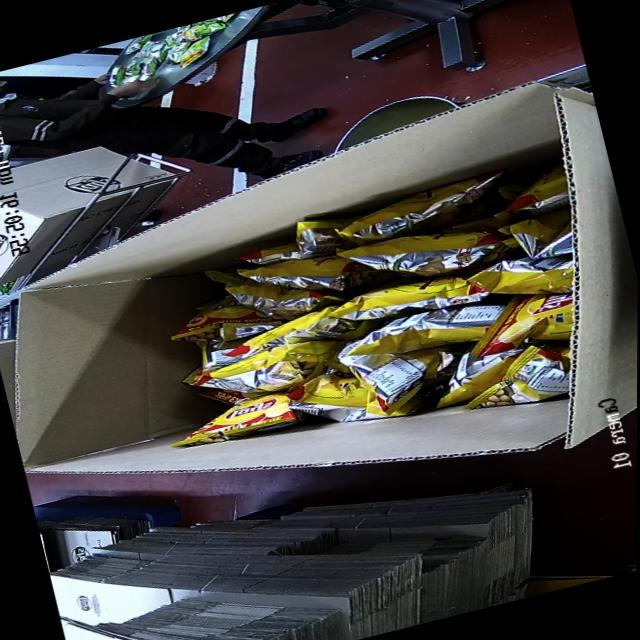SALTED: (142, 147, 612, 490)
